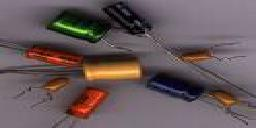Electrolytic Capacitor: (144, 70, 210, 106), (179, 41, 256, 71), (47, 9, 111, 44), (82, 51, 149, 82), (10, 79, 73, 107)
